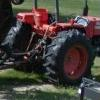Tractor: (12, 5, 100, 90)
